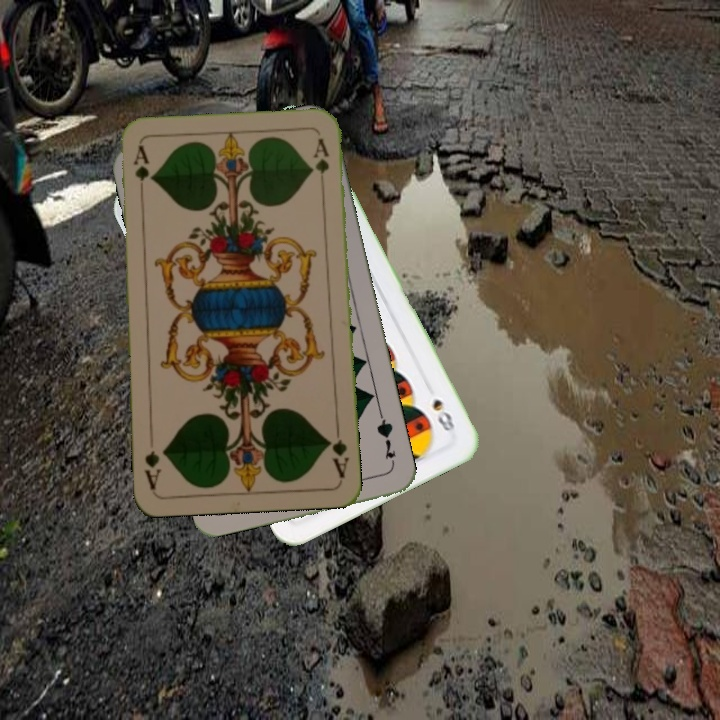G7: (373, 411, 399, 469)
GA: (323, 422, 352, 481), (129, 142, 151, 201)
S8: (428, 395, 458, 434)
